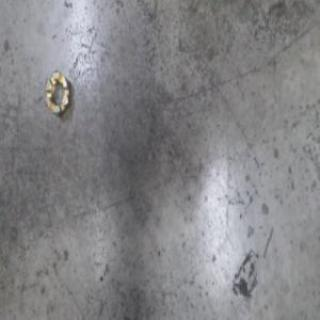Nuttrack_idkeyframe: (42, 67, 71, 119)
